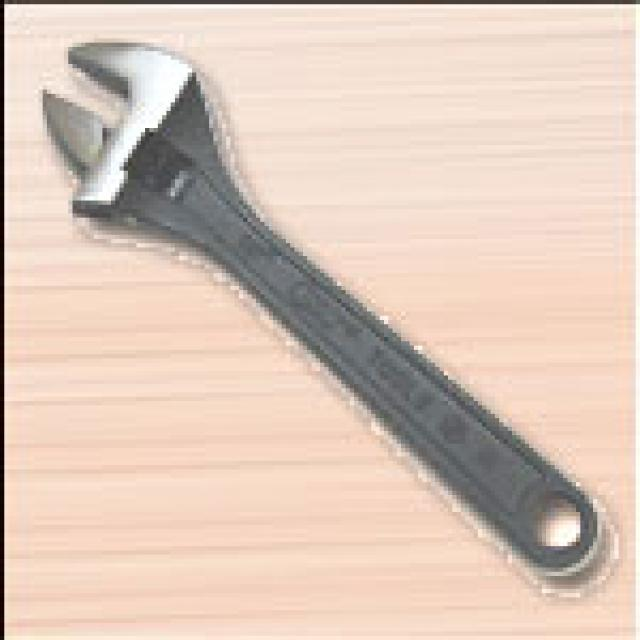wrench: (34, 33, 616, 593)
